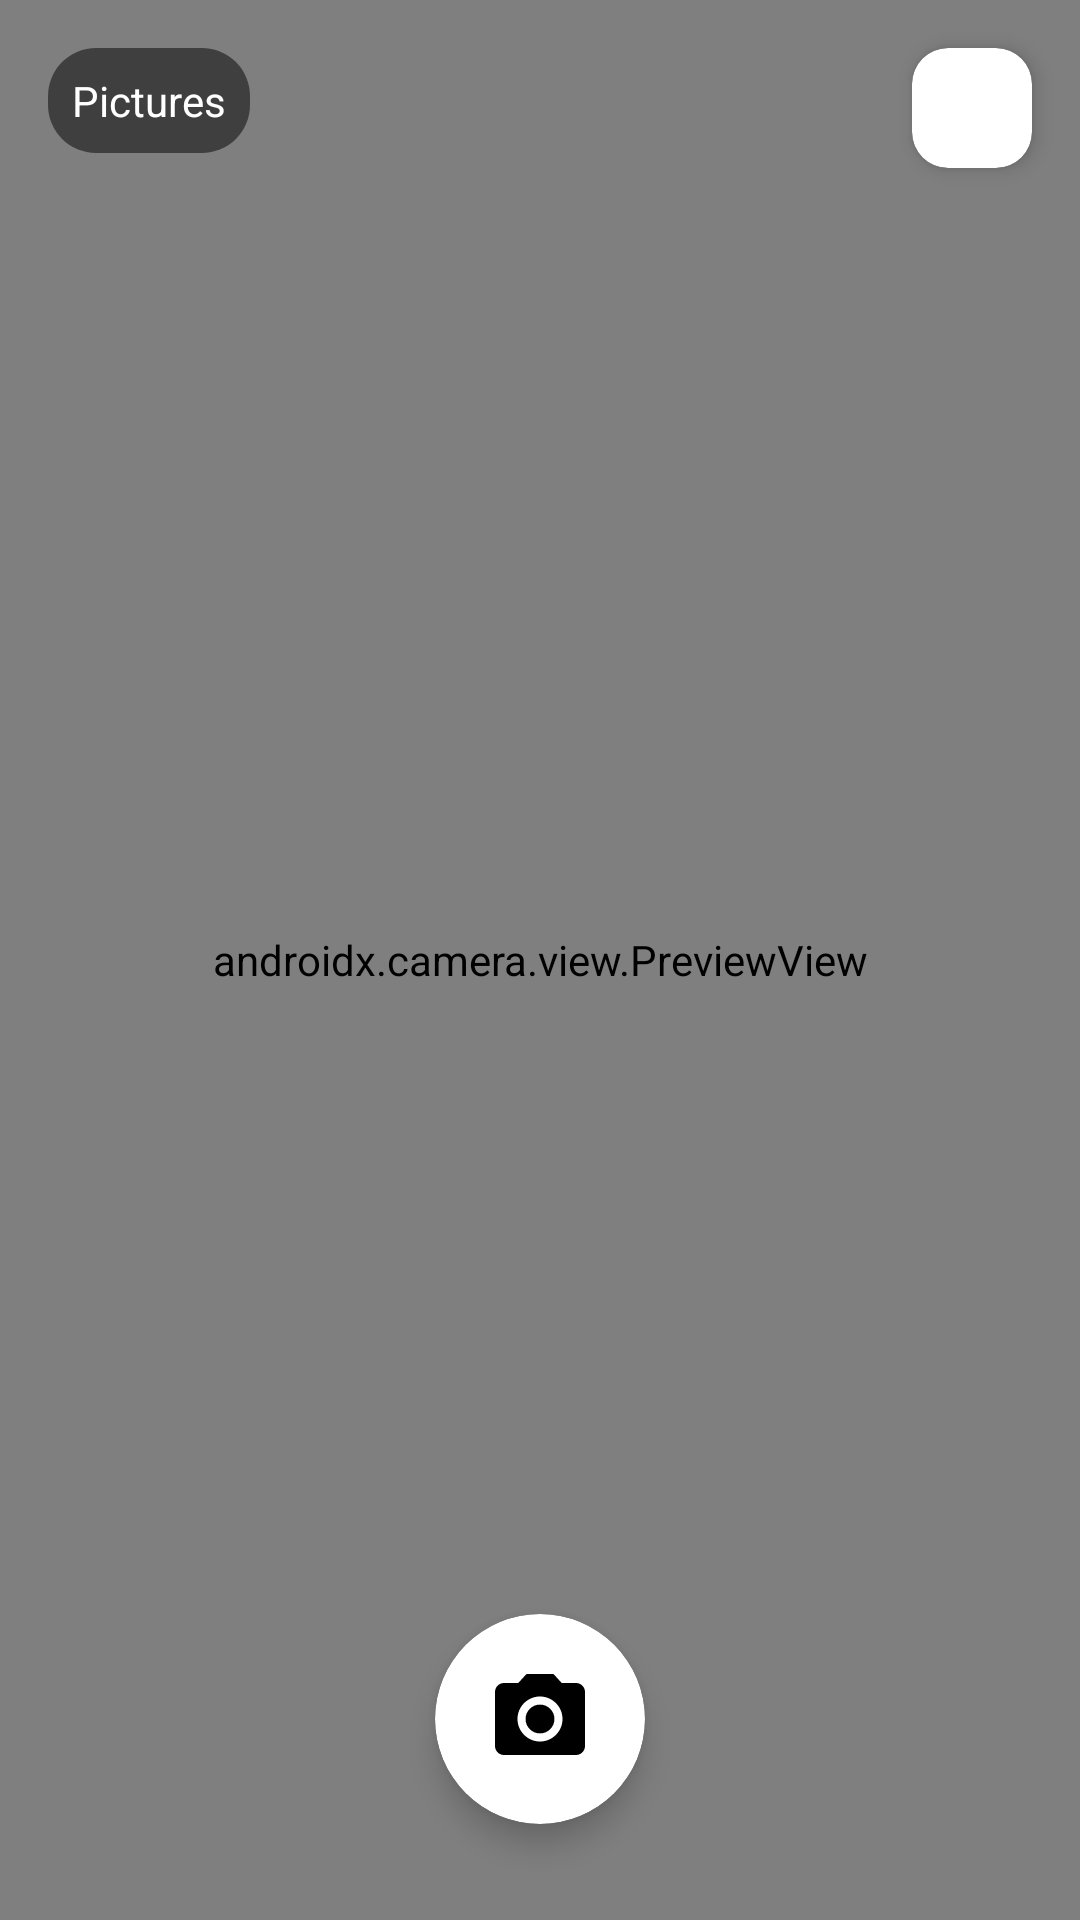

Where to tap for icons on this 1080*1920 app screen, as (x=x, y=y):
拍照: (x=540, y=1714)
